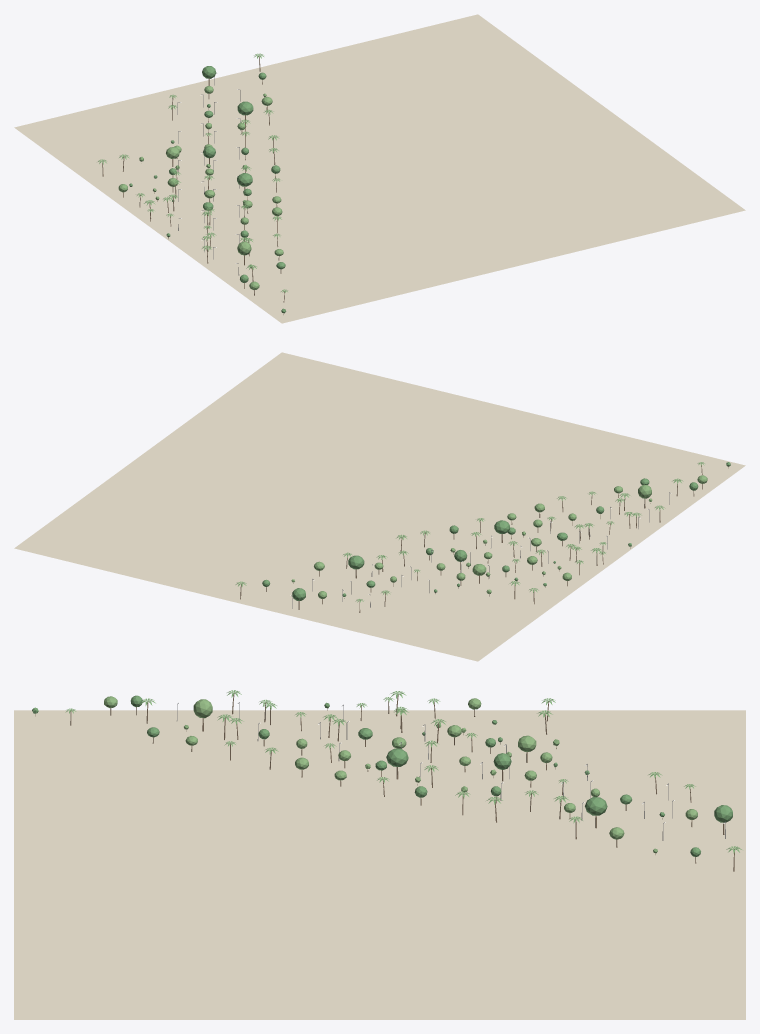
The model's file is nature_5_1.glb.
3 renders of one model, top to bottom at view 1: azimuth 30°, elevation 25°; view 2: azimuth 150°, elevation 25°; view 3: azimuth 270°, elevation 25°, orthographic. The views are drawn at different scales.
Visible parts, largest first — view 1: ground, foliage_b, foliage_a, palm_leaf, trunk; view 2: ground, foliage_b, foliage_a, palm_leaf, trunk; view 3: ground, foliage_b, foliage_a, palm_leaf, trunk.
Part boxes in pixels (x1,y1,x2,y2): ground: (14, 14, 745, 323); foliage_b: (118, 86, 283, 289); foliage_a: (129, 66, 286, 313); palm_leaf: (98, 53, 287, 292); trunk: (102, 56, 284, 314); ground: (14, 352, 745, 661); foliage_b: (291, 475, 707, 598); foliage_a: (262, 462, 730, 600); palm_leaf: (235, 462, 704, 602); trunk: (240, 465, 728, 612); ground: (14, 710, 745, 1019); foliage_b: (104, 696, 697, 853); foliage_a: (32, 695, 732, 856); palm_leaf: (65, 690, 741, 853); trunk: (35, 693, 734, 871).
Size of the model in its own units: 250 by 11.95 by 250.
